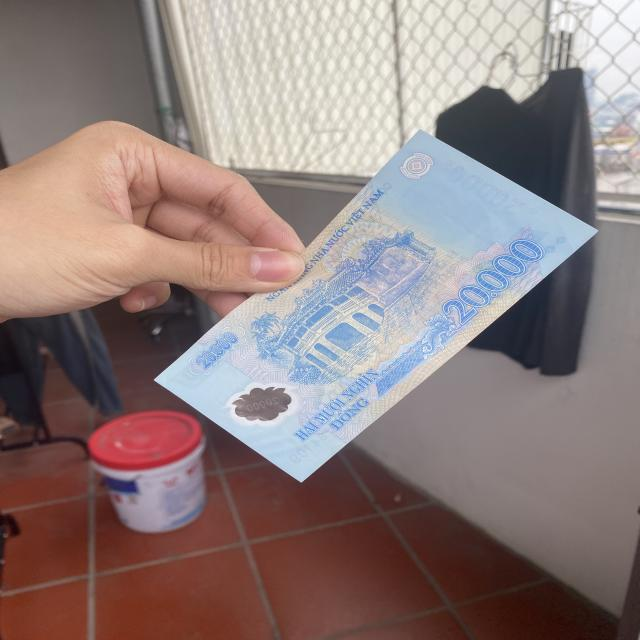20 000 VND: (150, 127, 602, 484)
